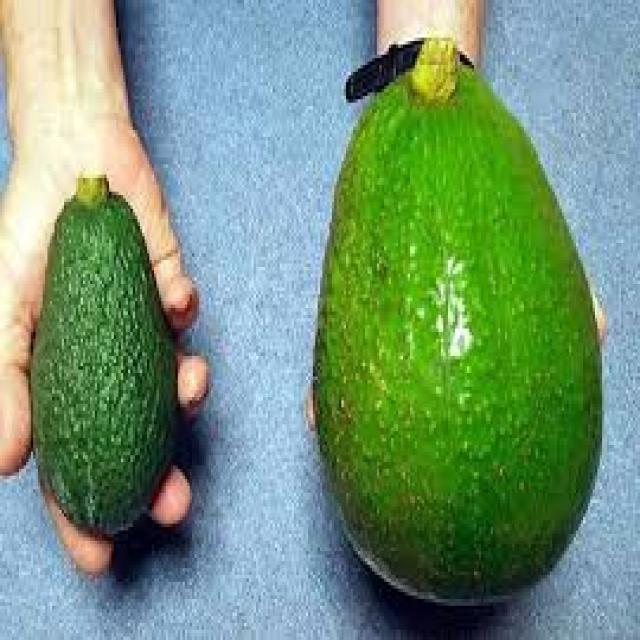Bo: (307, 15, 622, 613), (32, 162, 195, 559)
